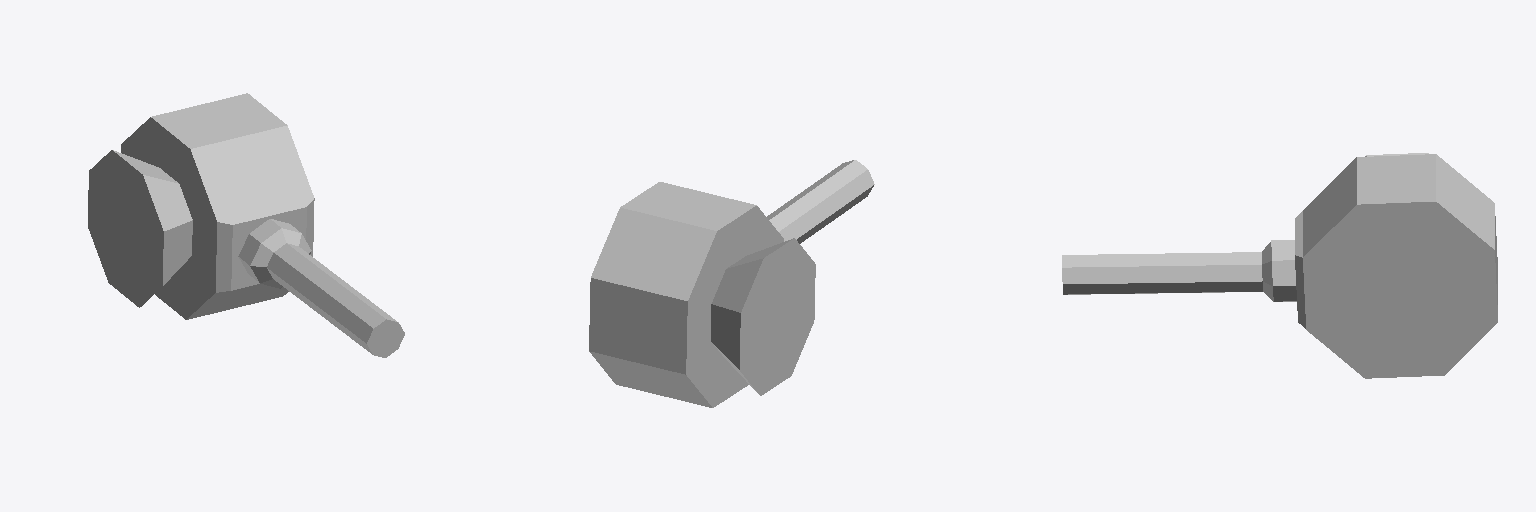
The model's file is weapon gun 3.obj.
3 views of the same model, side by side, from view 1: azimuth 30°, elevation 25°; view 2: azimuth 150°, elevation 25°; view 3: azimuth 270°, elevation 25° (orthographic).
Visible parts, largest first — view 1: Cylinder005; view 2: Cylinder005; view 3: Cylinder005.
Part boxes in pixels (left/top/right/bottom): Cylinder005: left=88, top=93, right=404, bottom=357; Cylinder005: left=589, top=160, right=874, bottom=407; Cylinder005: left=1062, top=153, right=1497, bottom=378.
Size of the model in its own units: 20.33 by 24.61 by 54.96.